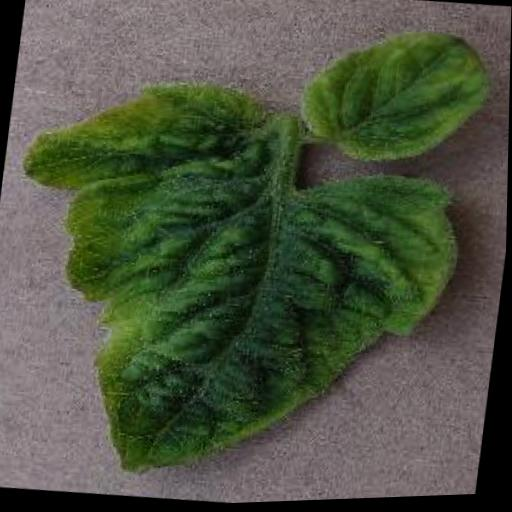Yellow Leaf Curl Virus: (0, 58, 481, 512), (291, 21, 497, 180)
